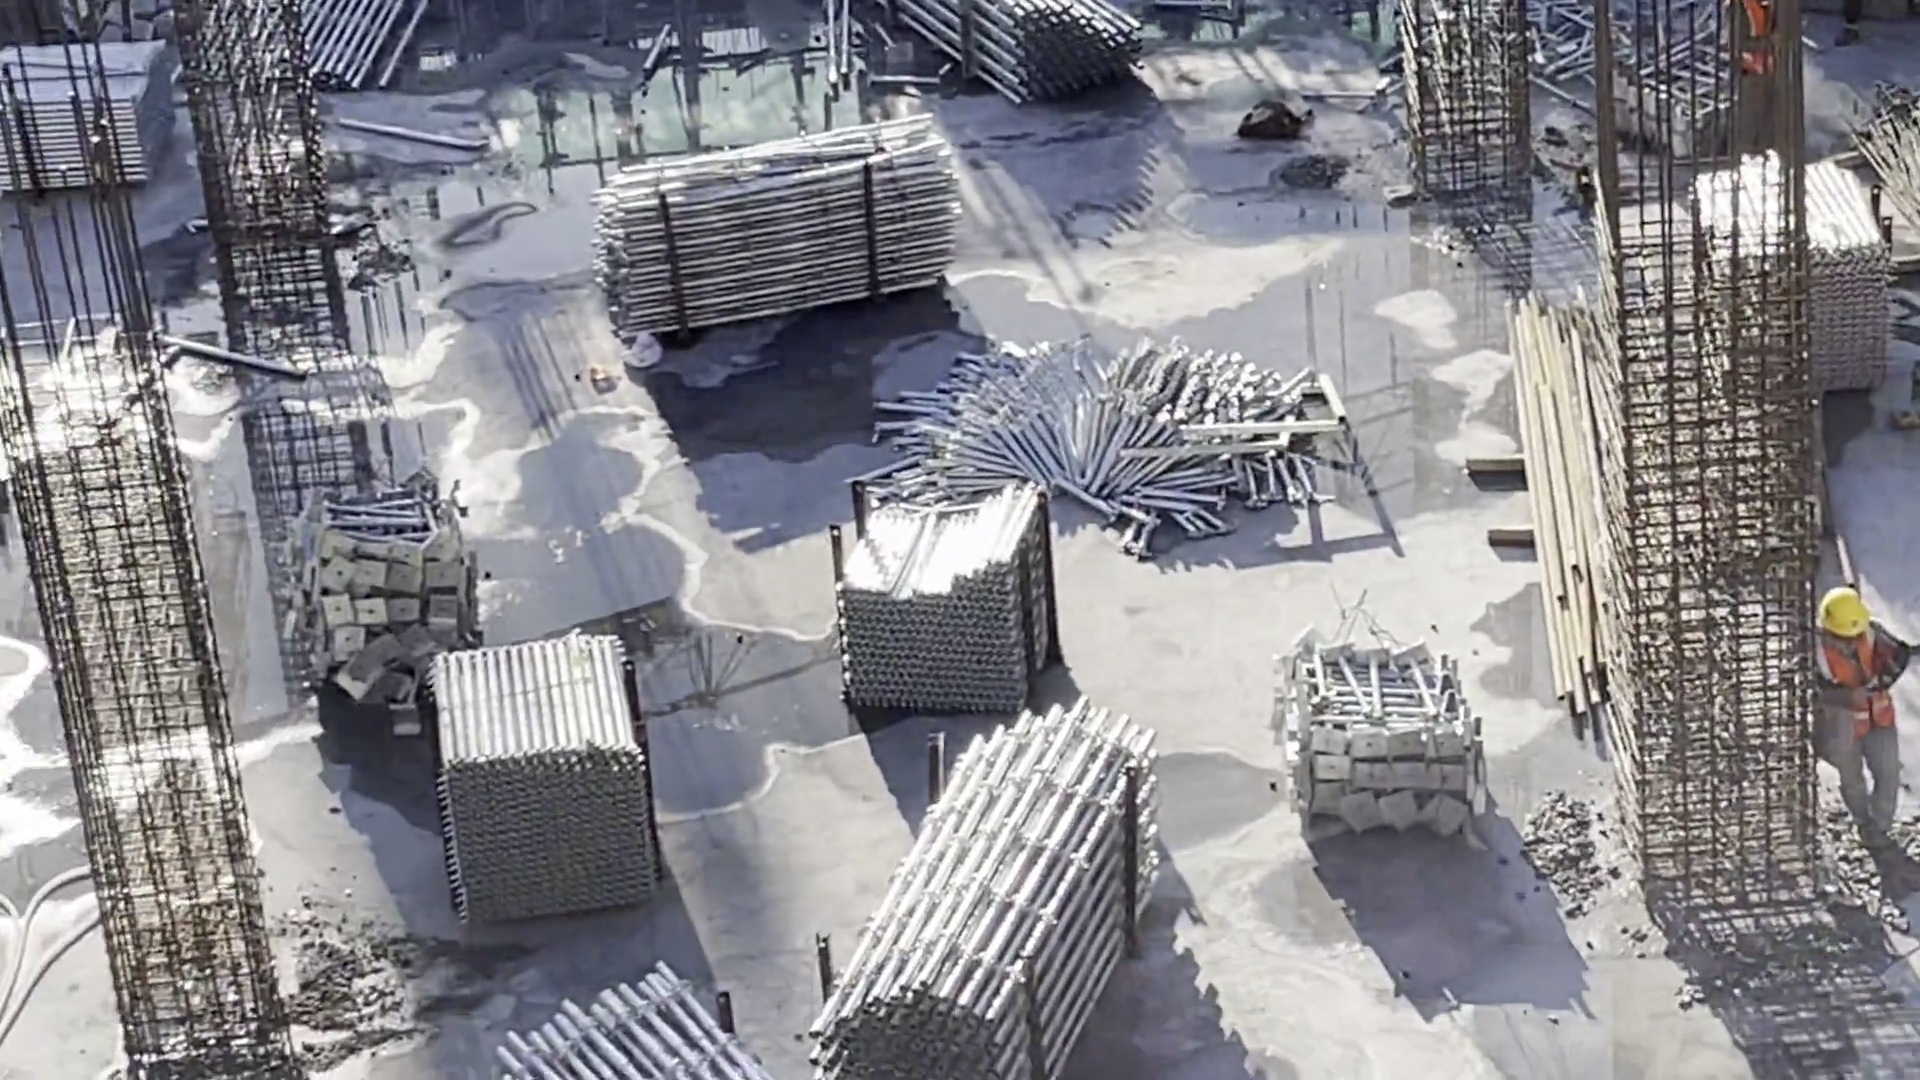helmet: (1821, 586, 1870, 642)
person: (1811, 582, 1920, 880), (1718, 1, 1806, 174)
scaffold: (819, 709, 1186, 1079), (885, 327, 1318, 522), (605, 112, 945, 352), (428, 630, 667, 890), (814, 487, 1083, 704), (280, 483, 496, 694), (1718, 147, 1891, 402), (1266, 642, 1495, 832), (501, 978, 813, 1080), (1, 37, 194, 199), (1542, 2, 1745, 146), (928, 1, 1164, 102)
vest: (1823, 624, 1900, 715), (1738, 1, 1786, 79)
